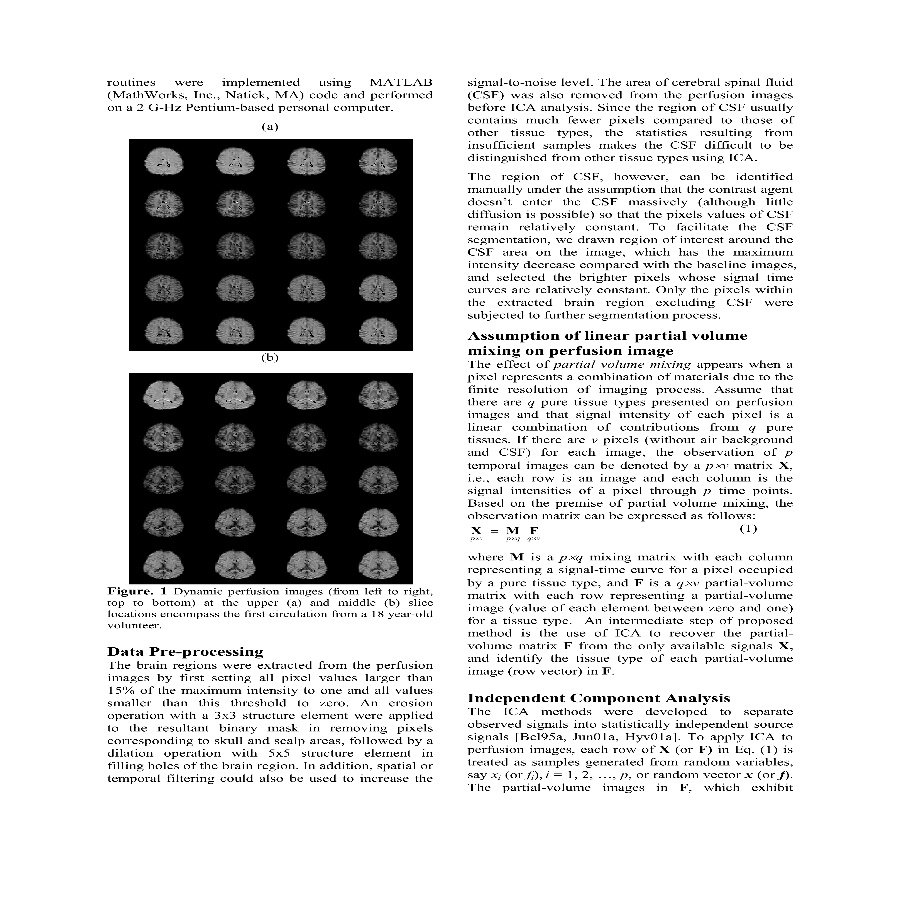eq: (468, 524, 542, 544)
